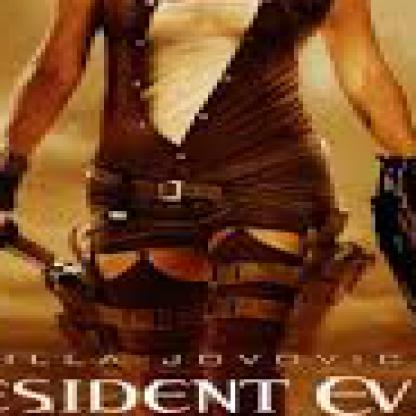gun: (0, 43, 412, 414)
